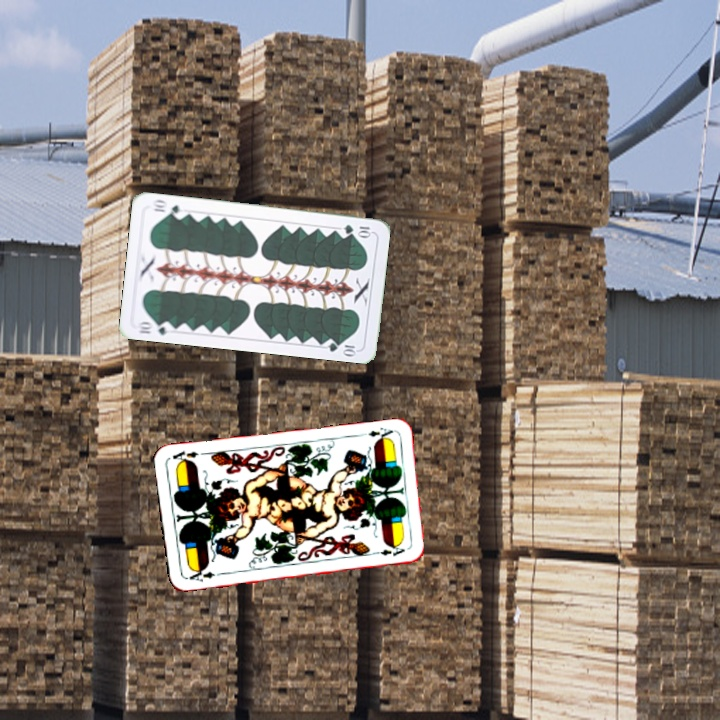EA: (356, 423, 395, 443), (182, 564, 217, 584)
G10: (134, 317, 175, 337), (339, 221, 374, 238)
